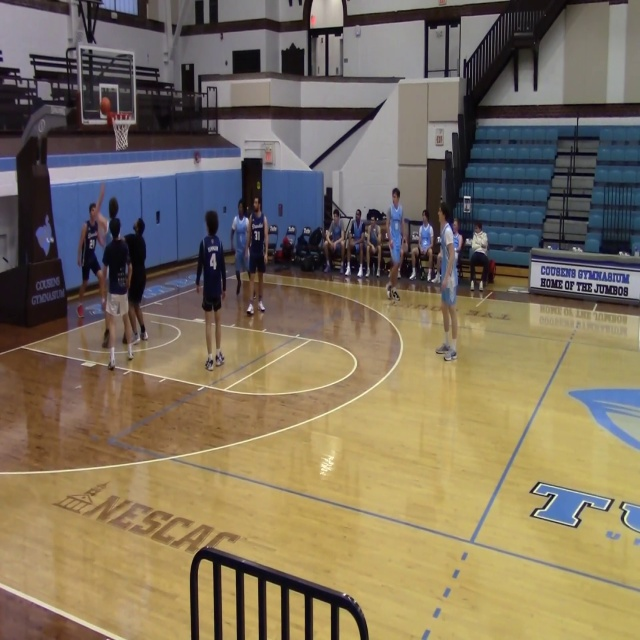Basketball: (100, 96, 111, 115)
